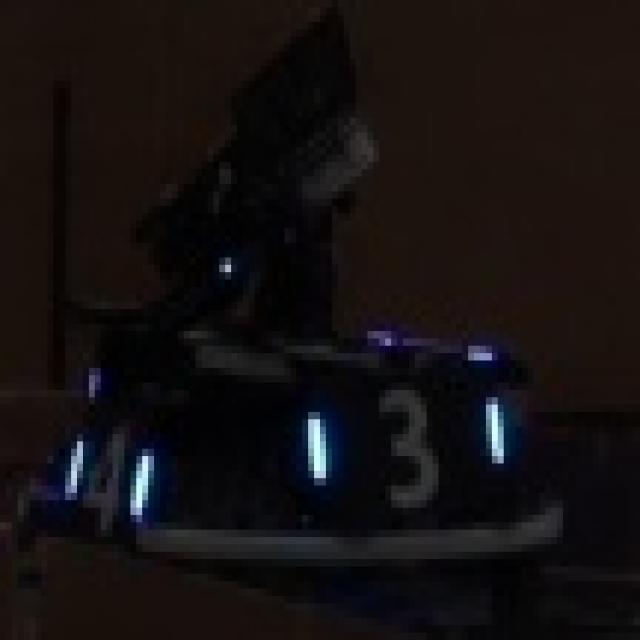B3: (296, 368, 516, 522)
B4: (65, 398, 154, 544)
